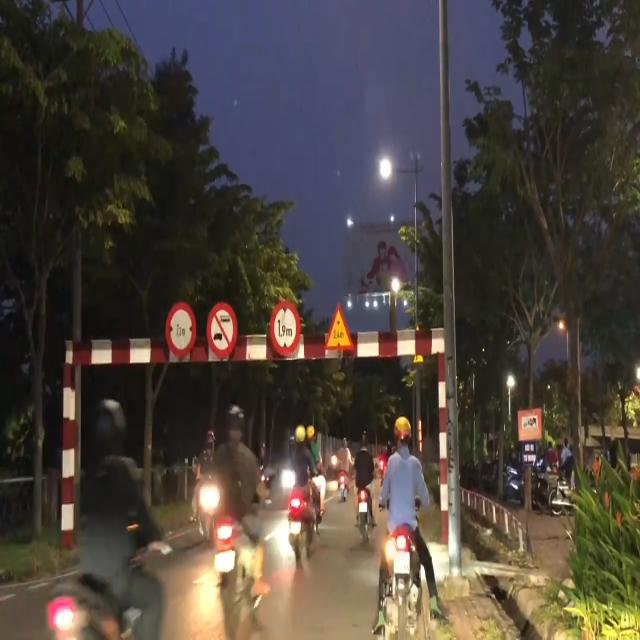Bien bao cam xe oto khach va xe oto tai: (204, 298, 246, 362)
Bien bao chieu cao tinh khong thuc te: (322, 297, 353, 354)
Bien bao han che chieu cao: (270, 297, 302, 365)
